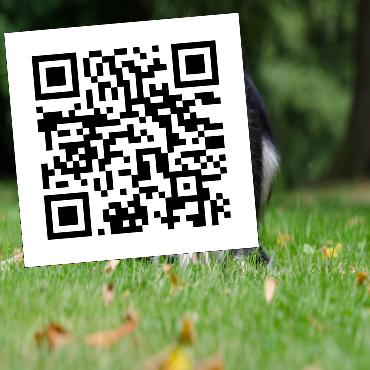qr_code: (4, 12, 258, 266)
